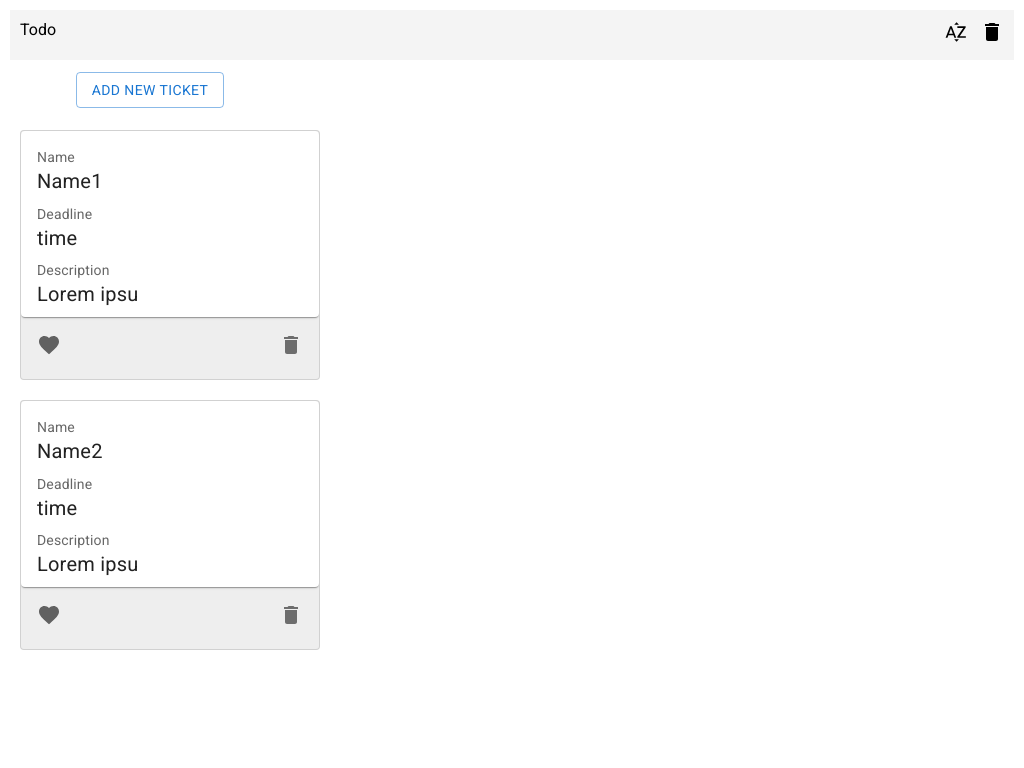
functionalities of add new component › test modal opening on click add new text
This screenshot has width=1024, height=768.
Click the button "Add new ticket" at (150, 90), box [76,72,224,108]
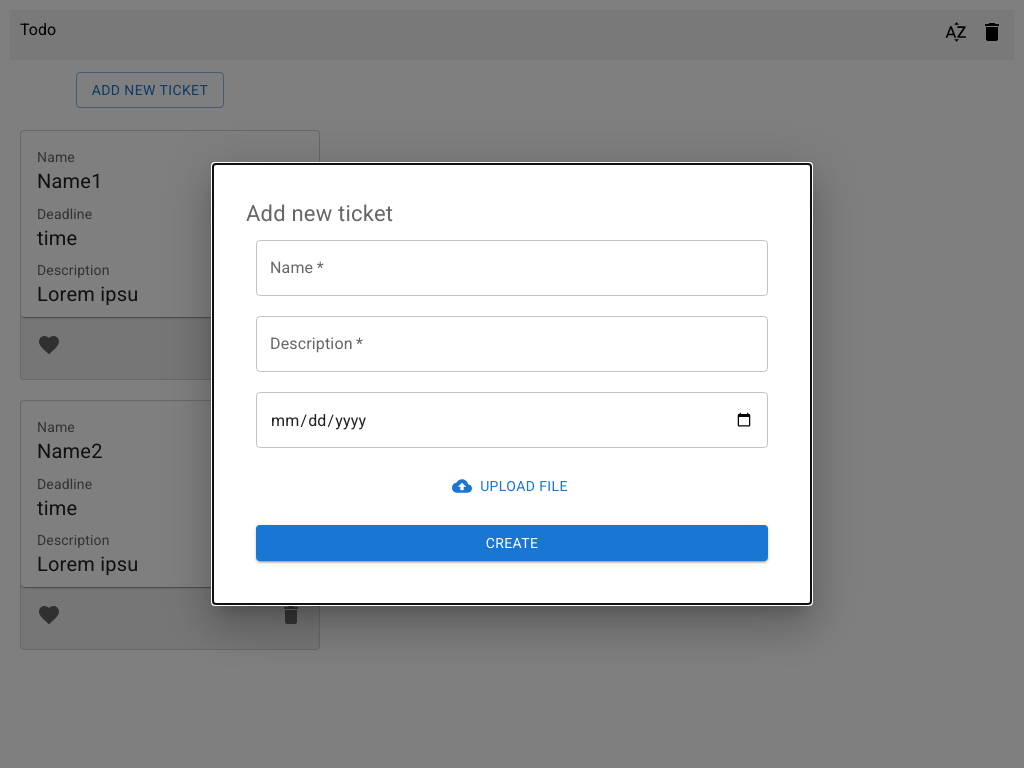
expect the element with test id "add-ticket" is shown: met, box [212,163,812,605]
